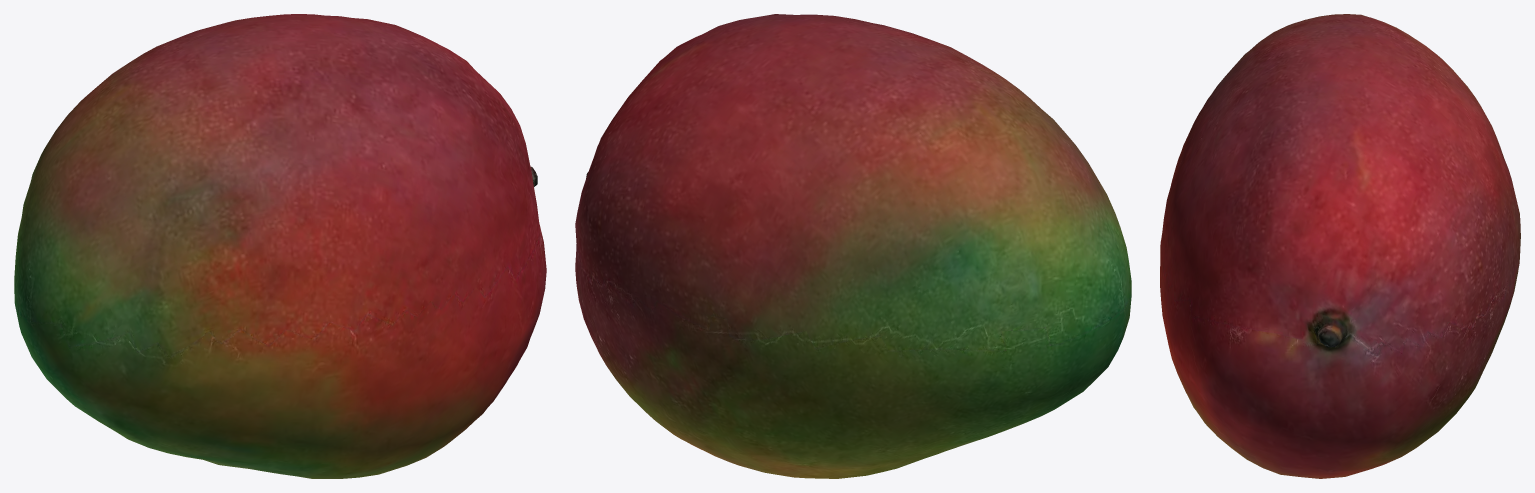
File: mango-3.glb
3 renders of one model, left to right at view 1: azimuth 30°, elevation 25°; view 2: azimuth 150°, elevation 25°; view 3: azimuth 270°, elevation 25°, orthographic. The views are drawn at different scales.
Parts seen in each view (by area): view 1: Object_3; view 2: Object_3; view 3: Object_3.
Part boxes in pixels (<box>): Object_3: <box>14,14,546,478</box>; Object_3: <box>575,14,1131,478</box>; Object_3: <box>1160,14,1520,478</box>.
Bounding box in the file's own units: 7.01 × 5.69 × 4.79.
Materials: 1 (1 with a texture image).
